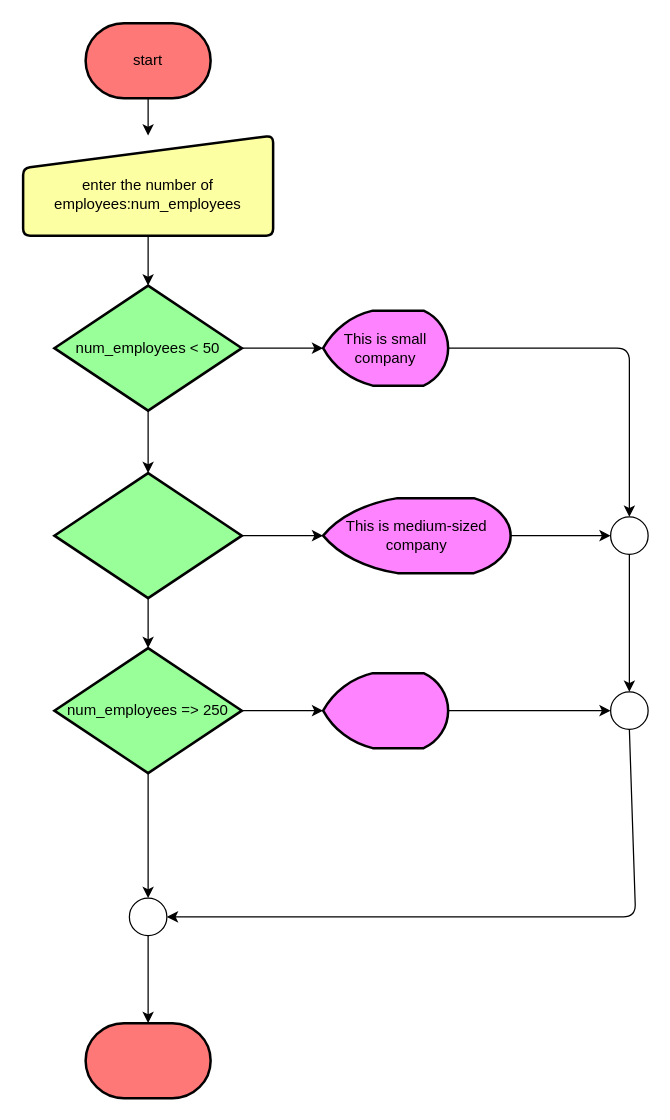
This 670x1120 diagram has some shape labels left out. The shapes that lost their labels are listed below. From the top down, each one's centre as x and y in pixels, then its label:
point (147, 535): num_employees < 250
point (385, 710): This is large company
point (147, 1060): Stop
